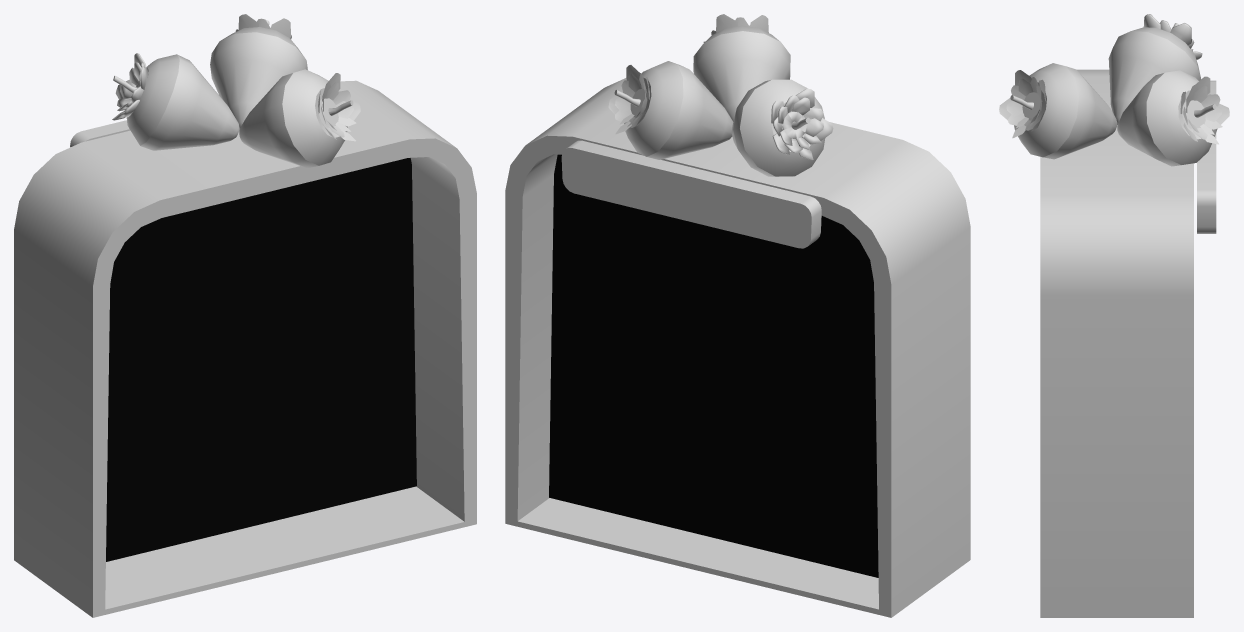
Rendered from srawberry aparat son.fbx.
3 views of the same model, side by side, from view 1: azimuth 30°, elevation 25°; view 2: azimuth 150°, elevation 25°; view 3: azimuth 270°, elevation 25° (orthographic). The views are drawn at different scales.
Parts seen in each view (by area): view 1: strawberry cake, strawberry cake.001, strawberry cake.002; view 2: strawberry cake, strawberry cake.001, strawberry cake.002; view 3: strawberry cake, strawberry cake.002.
Part boxes in pixels (left/top/right/bottom): strawberry cake: left=14, top=14, right=476, bottom=617; strawberry cake.001: left=106, top=158, right=416, bottom=561; strawberry cake.002: left=239, top=69, right=360, bottom=168; strawberry cake: left=505, top=61, right=970, bottom=617; strawberry cake.001: left=549, top=154, right=878, bottom=577; strawberry cake.002: left=693, top=14, right=790, bottom=121; strawberry cake: left=1040, top=14, right=1229, bottom=617; strawberry cake.002: left=999, top=63, right=1117, bottom=159.
Size of the model in its own units: 3.78 by 4.56 by 2.02.
